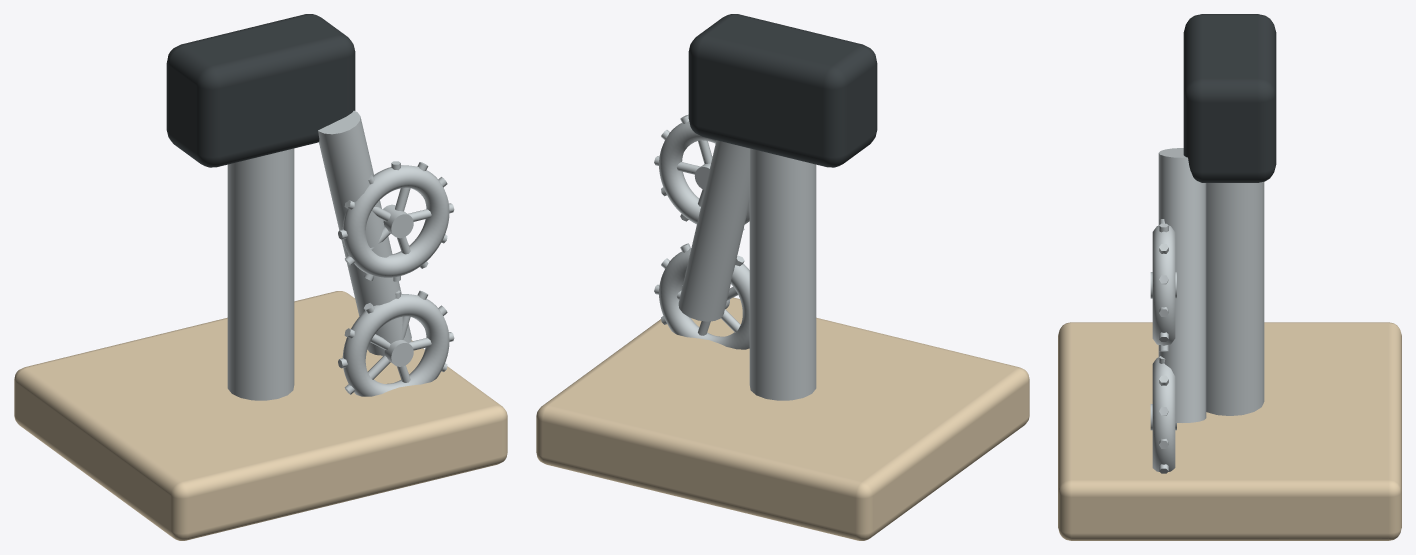
The model's file is bicycle-shop-and-repair-cafe-derailleur-display-mount-b041ce38__32417.glb.
3 views of the same model, side by side, from view 1: azimuth 30°, elevation 25°; view 2: azimuth 150°, elevation 25°; view 3: azimuth 270°, elevation 25° (orthographic). The views are drawn at different scales.
Parts seen in each view (by area): view 1: derailleur-display-mount; view 2: derailleur-display-mount; view 3: derailleur-display-mount.
Boxes of the visible parts, <box> form: derailleur-display-mount: <box>14,14,507,540</box>; derailleur-display-mount: <box>536,14,1029,540</box>; derailleur-display-mount: <box>1058,14,1401,540</box>.
Bounding box in the file's own units: 0.15 × 0.173 × 0.13.
